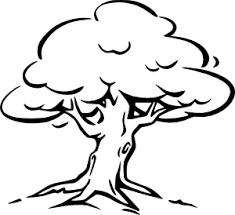tree: (3, 8, 235, 187)
